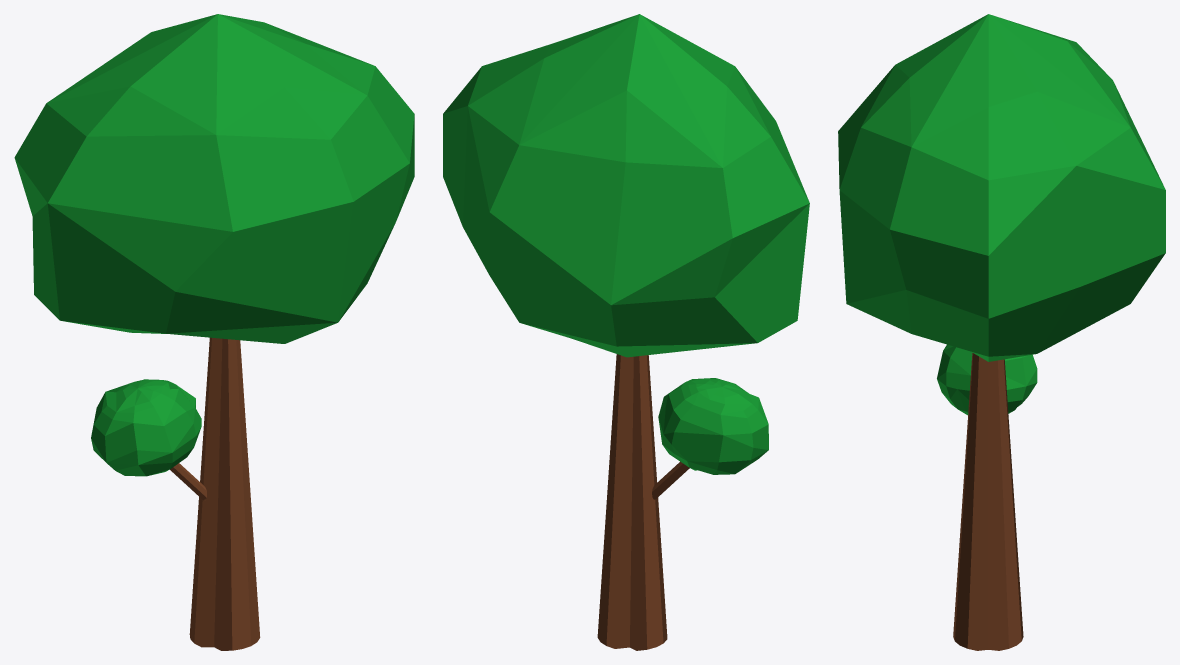
File: H_Small_tree.fbx
3 views of the same model, side by side, from view 1: azimuth 30°, elevation 25°; view 2: azimuth 150°, elevation 25°; view 3: azimuth 270°, elevation 25° (orthographic).
Parts seen in each view (by area): view 1: pCylinder7; view 2: pCylinder7; view 3: pCylinder7.
Boxes of the visible parts, x1,y1,x2,y2 form: pCylinder7: (14, 14, 414, 650); pCylinder7: (443, 14, 809, 650); pCylinder7: (838, 14, 1165, 650).
Size of the model in its own units: 3.52 by 5.73 by 2.75.
